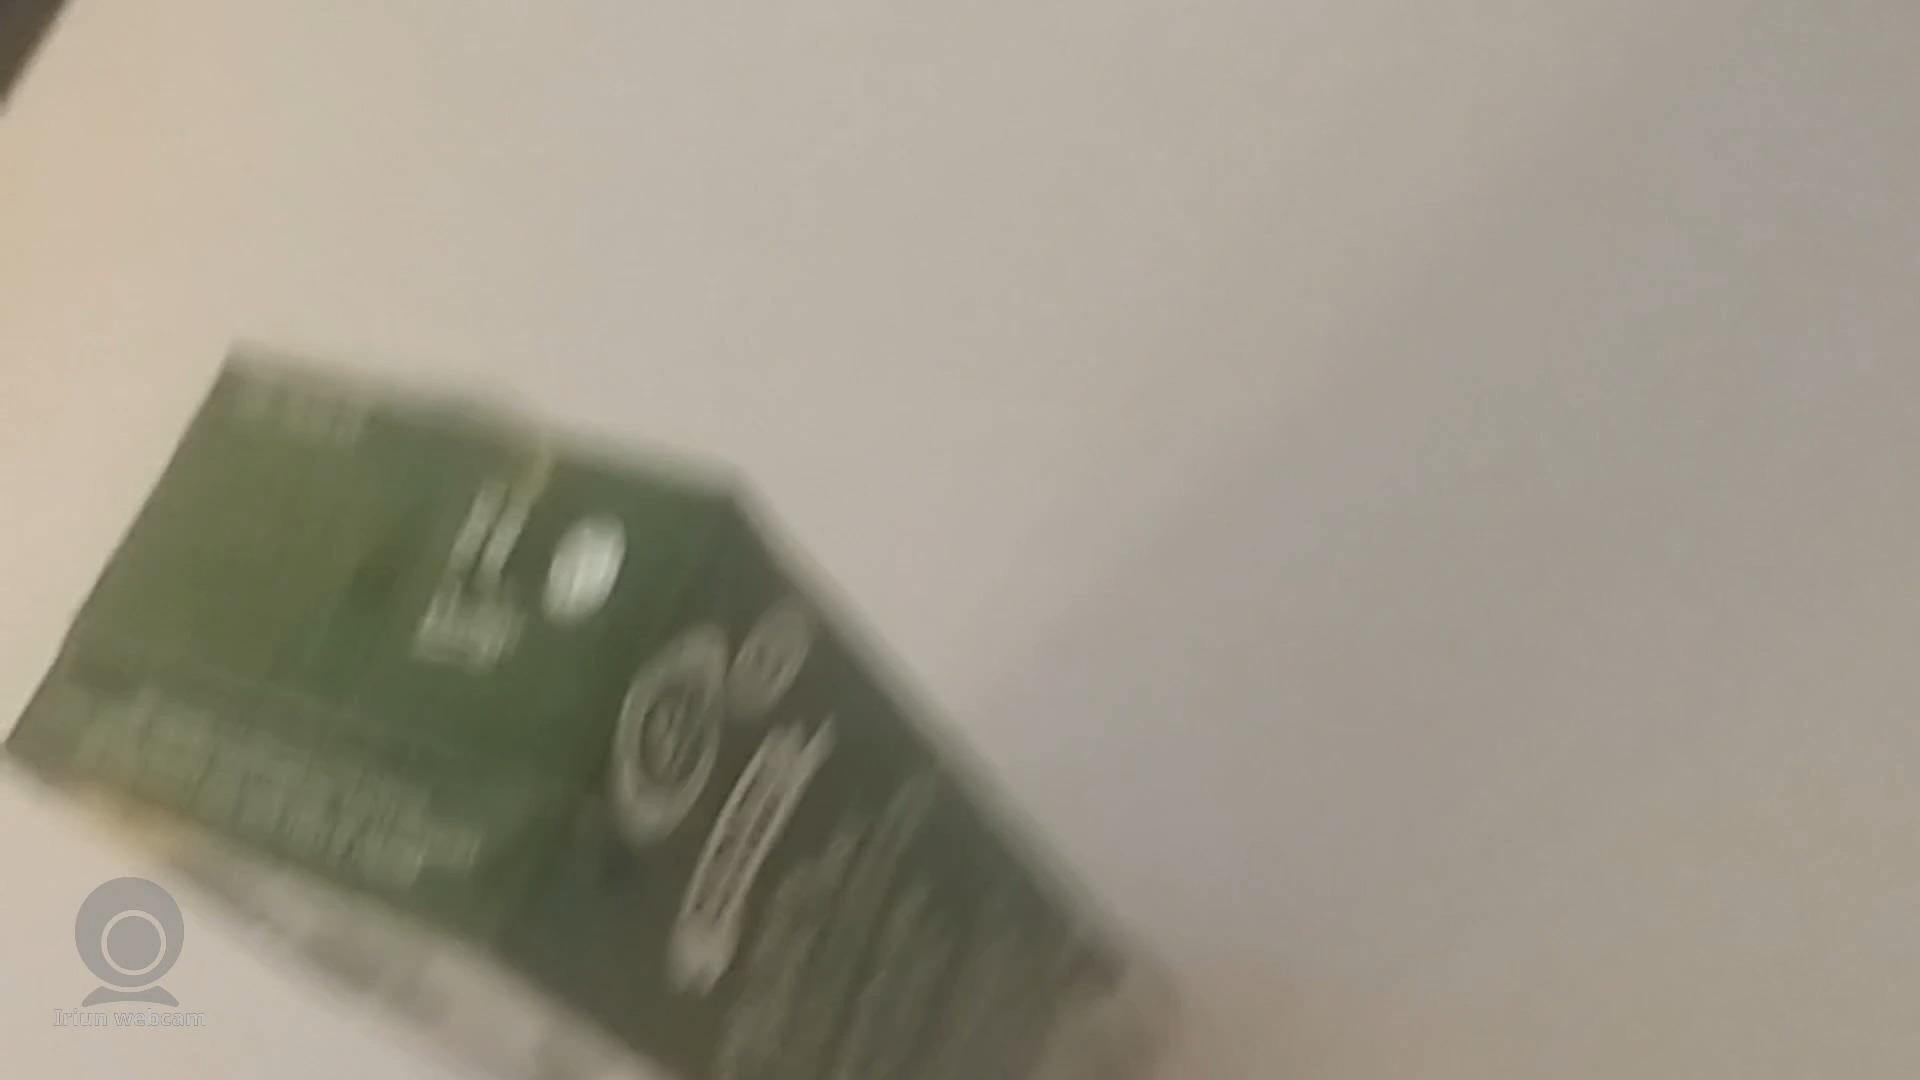coco: (20, 355, 1130, 1077)
